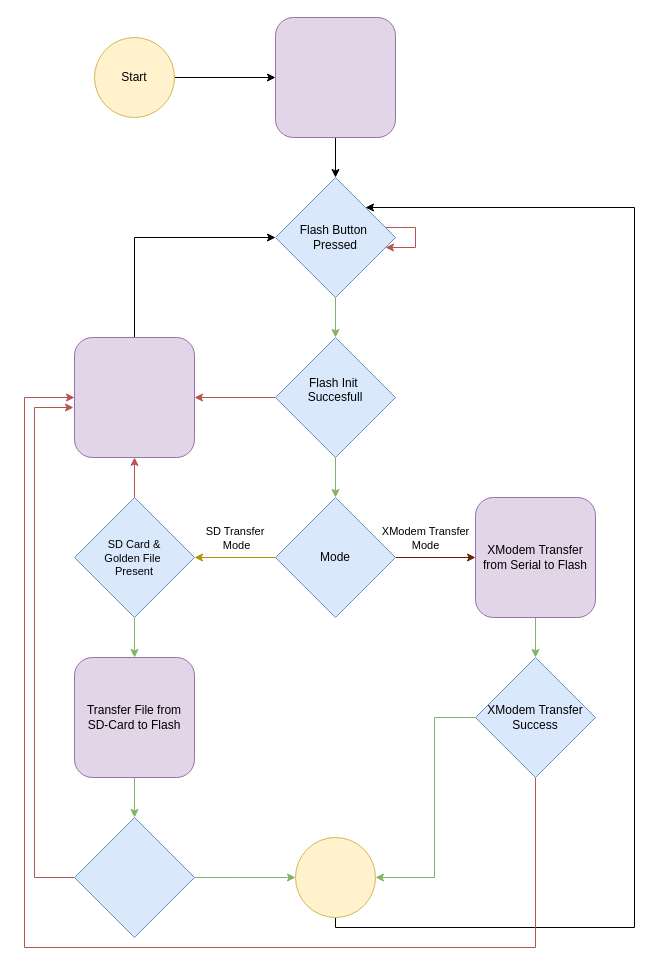
Some shapes in this 660 by 973 pixel diagram are drawn without their labels. The centre of each missing label's shape, as x and y in pixels:
"END" belongs at point 335,877.
"Failure Indication on Console & LED" belongs at point 134,397.
"File Transfer Succesfull & CRC match" belongs at point 134,877.
"HAL Initialization & Module Initialization" belongs at point 335,77.
